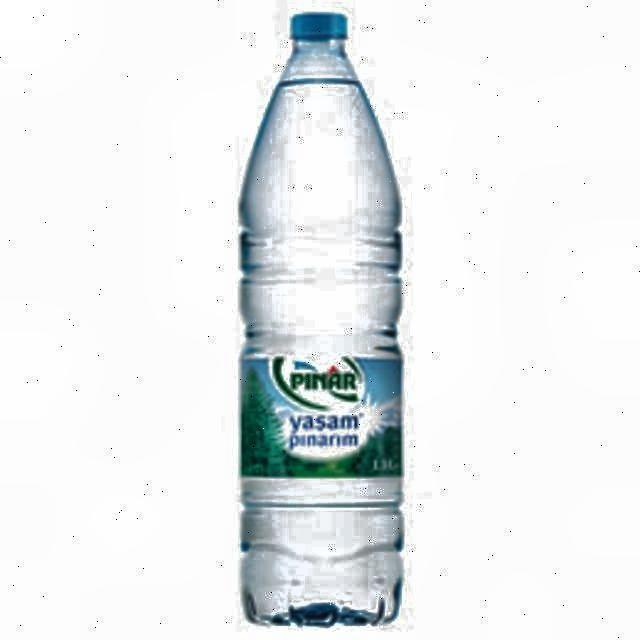plastic: (239, 12, 404, 629)
